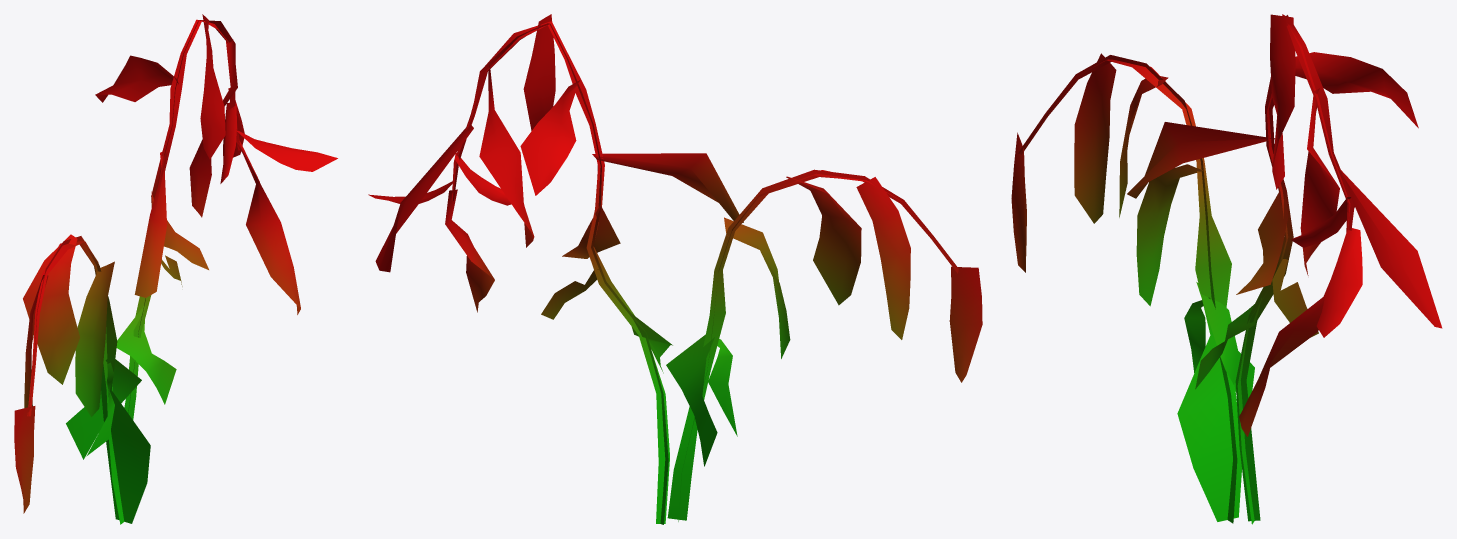
The model's file is Var4_LOD0.fbx.
The picture shows the model from 3 angles, left to right: view 1: azimuth 30°, elevation 25°; view 2: azimuth 150°, elevation 25°; view 3: azimuth 270°, elevation 25°; orthographic projection. The views are drawn at different scales.
Visible parts, largest first — view 1: _1ad3_Var4_LOD0; view 2: _1ad3_Var4_LOD0; view 3: _1ad3_Var4_LOD0.
Boxes of the visible parts, x1,y1,x2,y2 form: _1ad3_Var4_LOD0: [14, 14, 337, 524]; _1ad3_Var4_LOD0: [368, 14, 982, 524]; _1ad3_Var4_LOD0: [1011, 14, 1442, 524].
Bounding box in the file's own units: 21.15 × 20.8 × 14.32.
